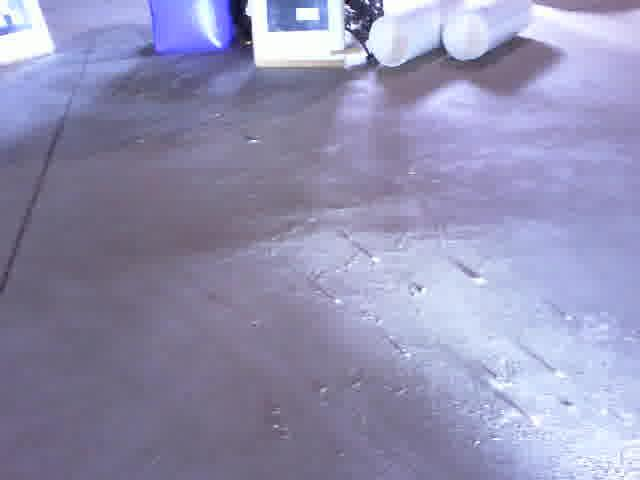coral: (365, 0, 462, 75), (440, 0, 538, 65)
